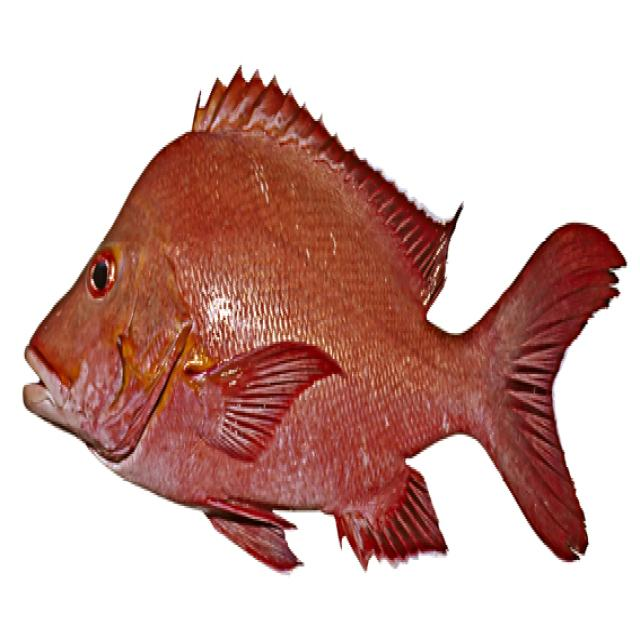ikan: (21, 63, 626, 575)
